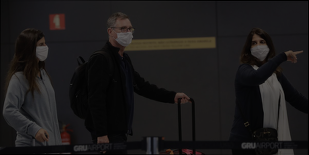with_mask: (112, 23, 136, 47), (248, 37, 271, 61), (35, 40, 50, 63)
